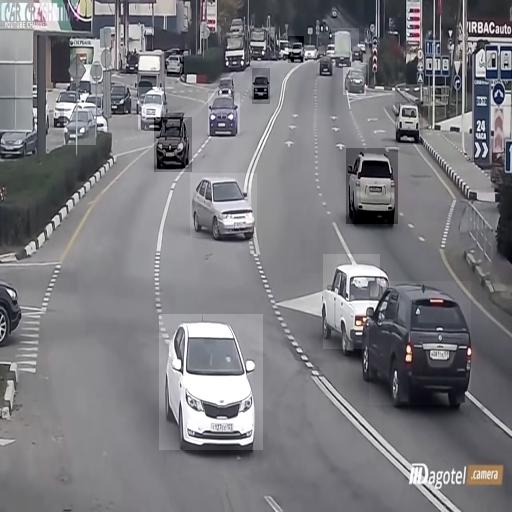小汽车: (160, 314, 264, 450), (369, 281, 471, 405), (323, 254, 380, 349), (190, 173, 257, 237), (346, 148, 398, 224), (154, 117, 192, 172), (0, 270, 25, 339), (104, 70, 132, 118), (64, 103, 96, 145), (208, 93, 240, 135), (395, 102, 423, 145), (222, 27, 249, 70), (138, 87, 164, 130), (331, 28, 359, 67), (343, 66, 366, 96), (252, 68, 270, 104), (164, 50, 184, 74), (288, 36, 304, 63)
